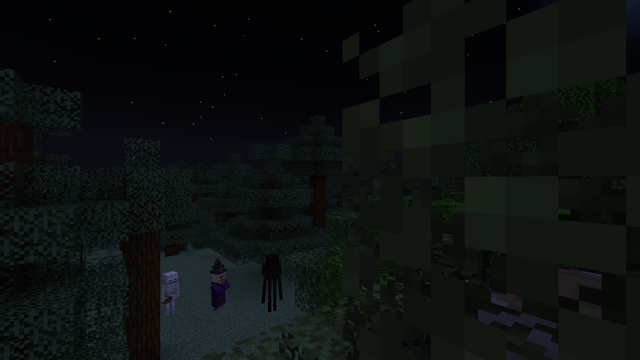endermens: (264, 251, 280, 315)
sorcieres: (210, 267, 225, 311)
squelettes: (162, 270, 178, 317)
